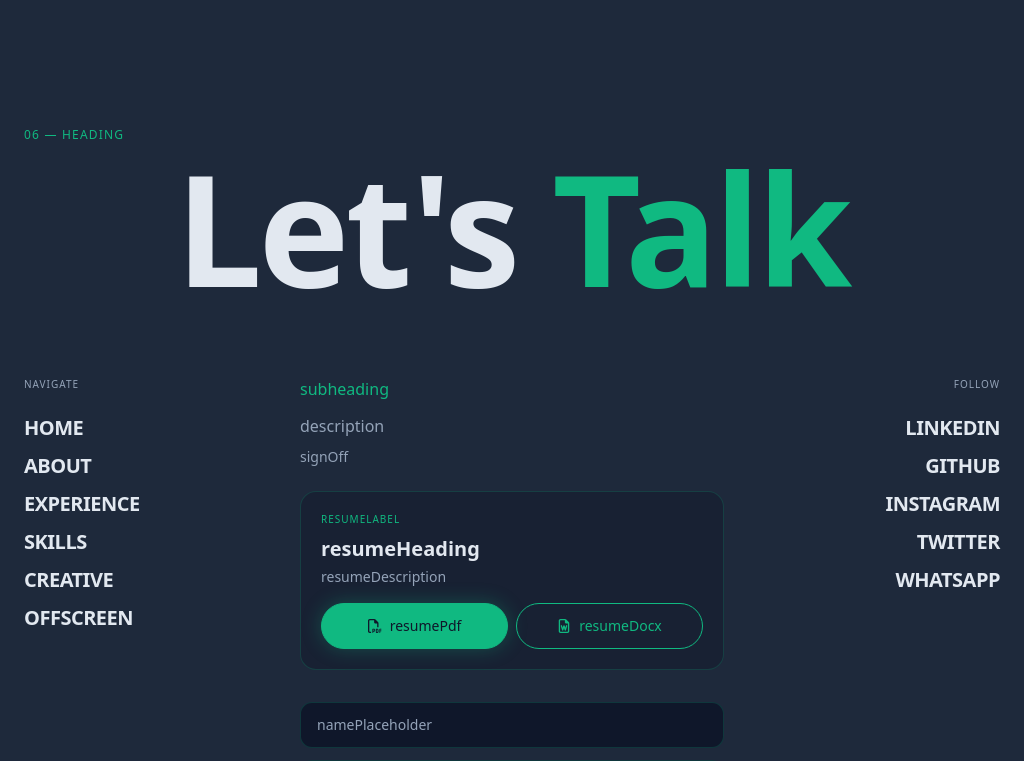
Test: ContactSection › should show the error message when the API responds with a failure
Type "Pato" into the field with test id "contact-input-name".
click(512, 725); type("Pato")  # box top-left (300, 702), bottom-right (724, 748)
(page scrolled)
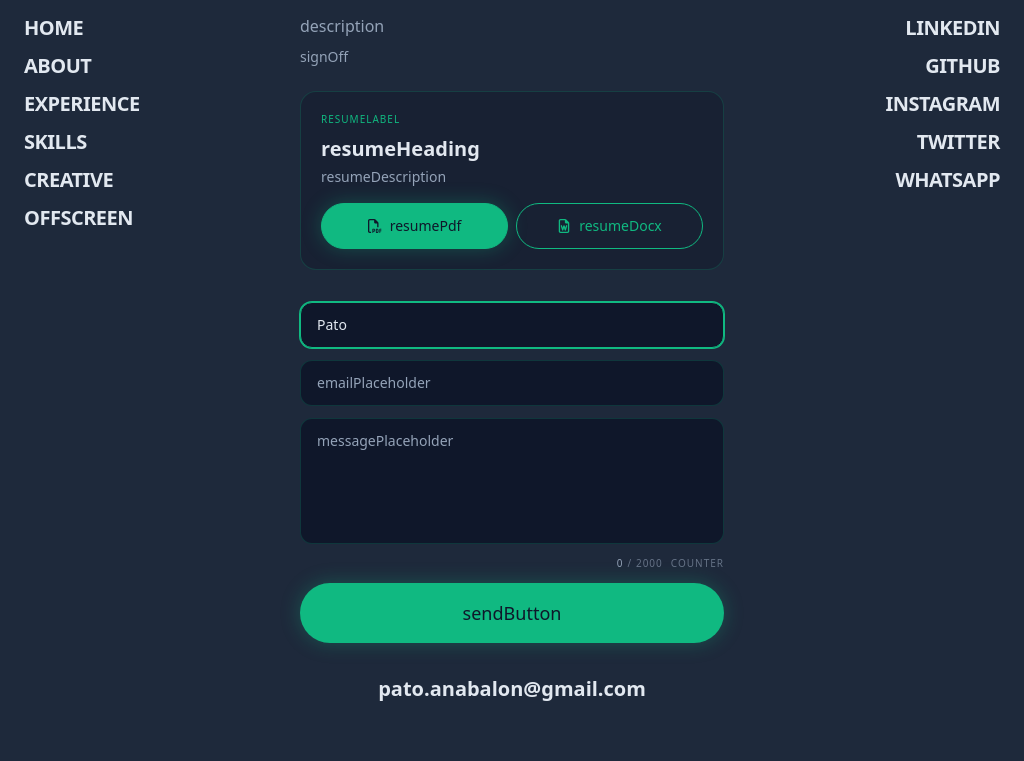
Type "pato@example.com" into the field with test id "contact-input-email".
click(512, 383); type("pato@example.com")  # box top-left (300, 360), bottom-right (724, 406)
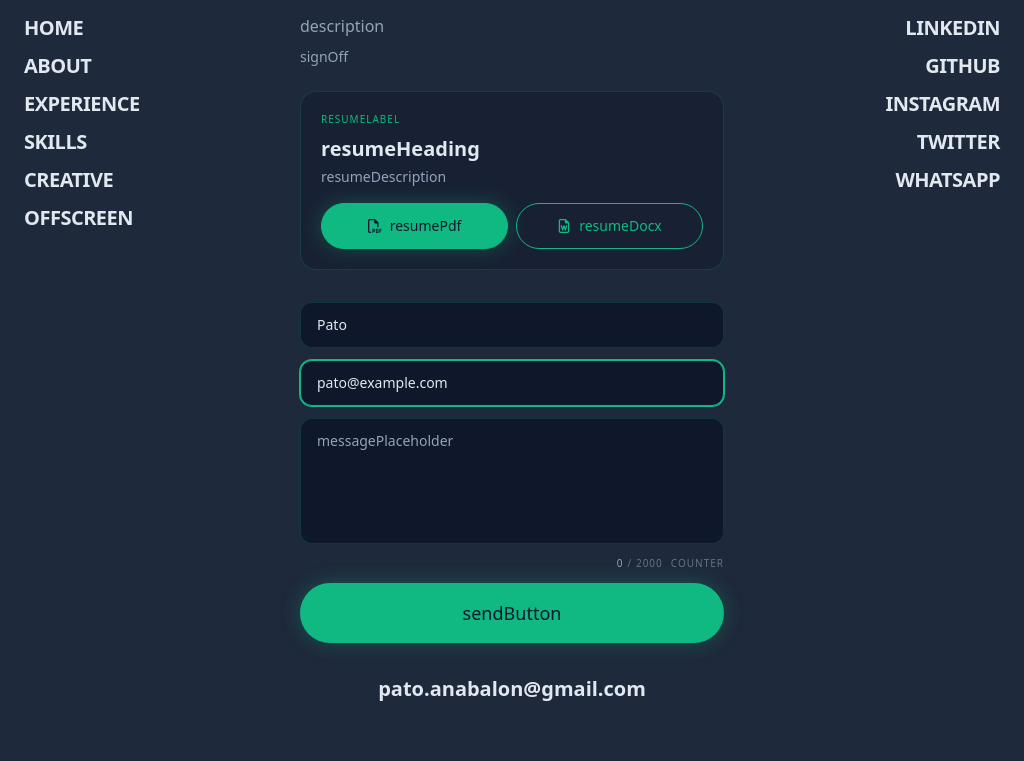
Type "Hola!" into the text box with test id "contact-input-message".
click(512, 481); type("Hola!")  # box top-left (300, 418), bottom-right (724, 544)
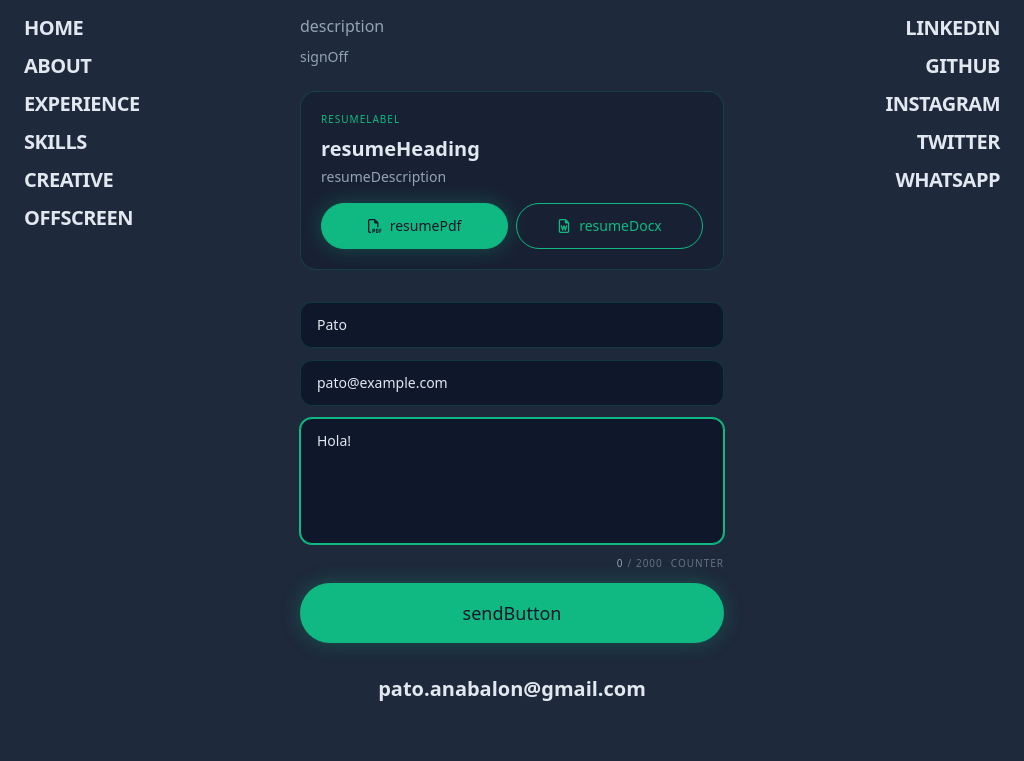
Click the button with test id "contact-submit-button".
click(512, 613)  # box top-left (300, 583), bottom-right (724, 643)
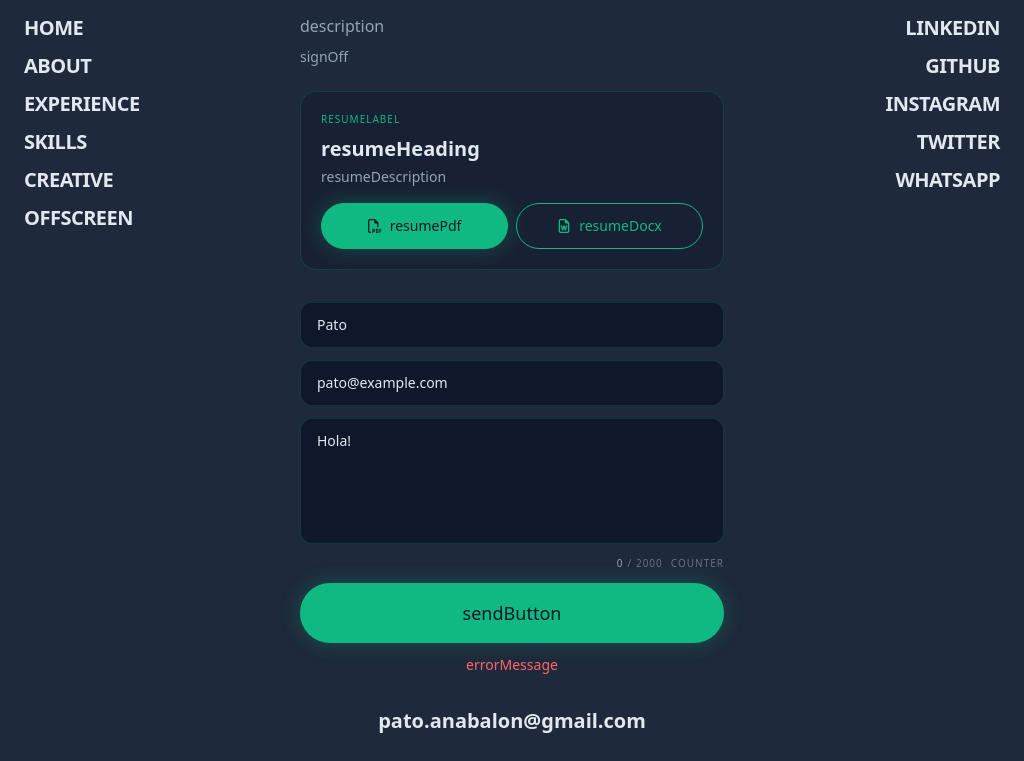
Expected: the text "errorMessage" is shown, top-left (466, 655), bottom-right (558, 674)
